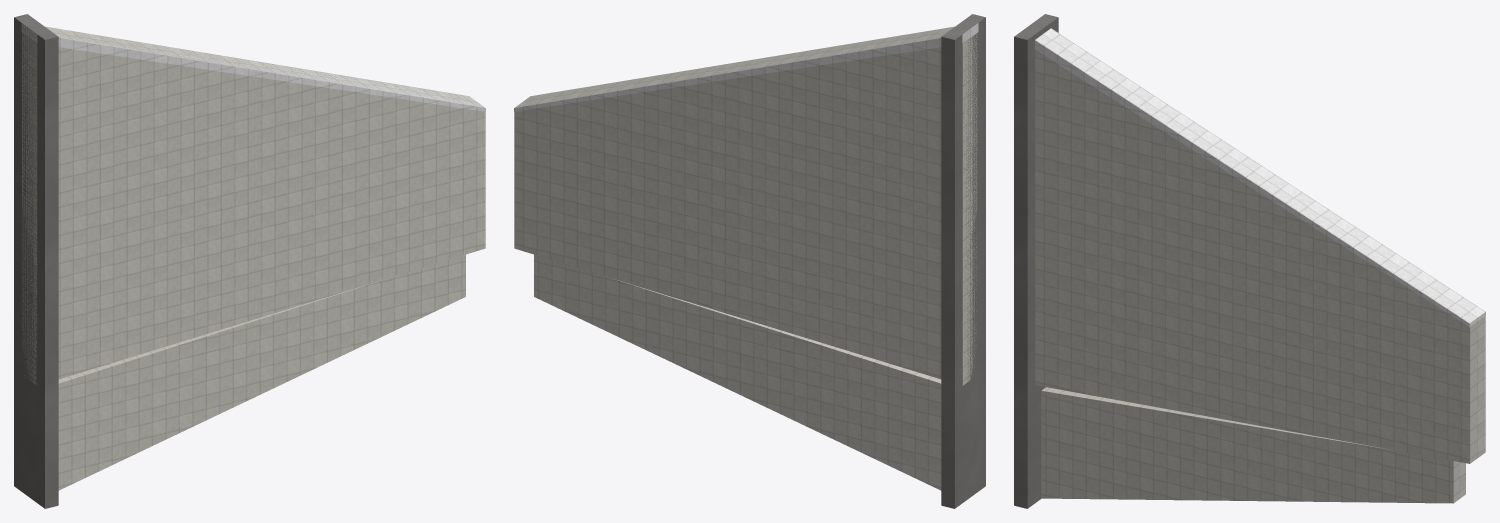
The model's file is aero05_tail_fin_l_vertical.glb.
3 renders of one model, left to right at view 1: azimuth 30°, elevation 25°; view 2: azimuth 150°, elevation 25°; view 3: azimuth 330°, elevation 25°, orthographic.
Parts seen in each view (by area): view 1: fin, surface_rudder, root_flange, fin_le; view 2: fin, surface_rudder, root_flange, fin_le; view 3: fin, surface_rudder, fin_le, root_flange.
Part boxes in pixels (<box>): fin: <box>22,23,485,385</box>; surface_rudder: <box>58,254,465,490</box>; root_flange: <box>14,14,58,508</box>; fin_le: <box>21,23,485,111</box>; fin: <box>514,27,977,385</box>; surface_rudder: <box>534,254,941,490</box>; root_flange: <box>941,14,985,508</box>; fin_le: <box>514,23,978,111</box>; fin: <box>1035,50,1485,463</box>; surface_rudder: <box>1041,387,1465,503</box>; fin_le: <box>1035,28,1485,327</box>; root_flange: <box>1014,14,1058,508</box>.
Bounding box in the file's own units: 5 × 5 × 0.6.
3 materials, 3 textured.
